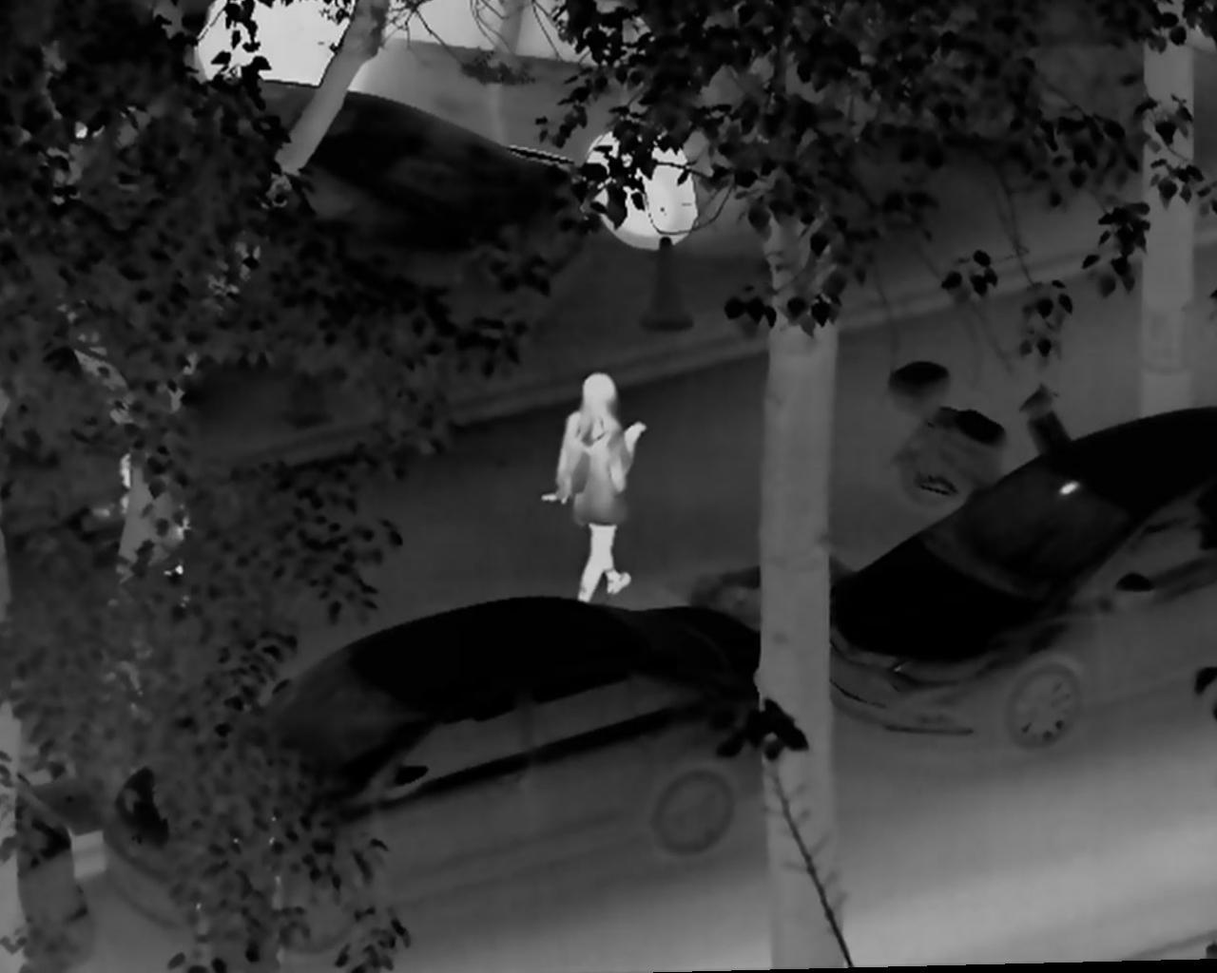person: (539, 369, 649, 606), (100, 448, 189, 609)
